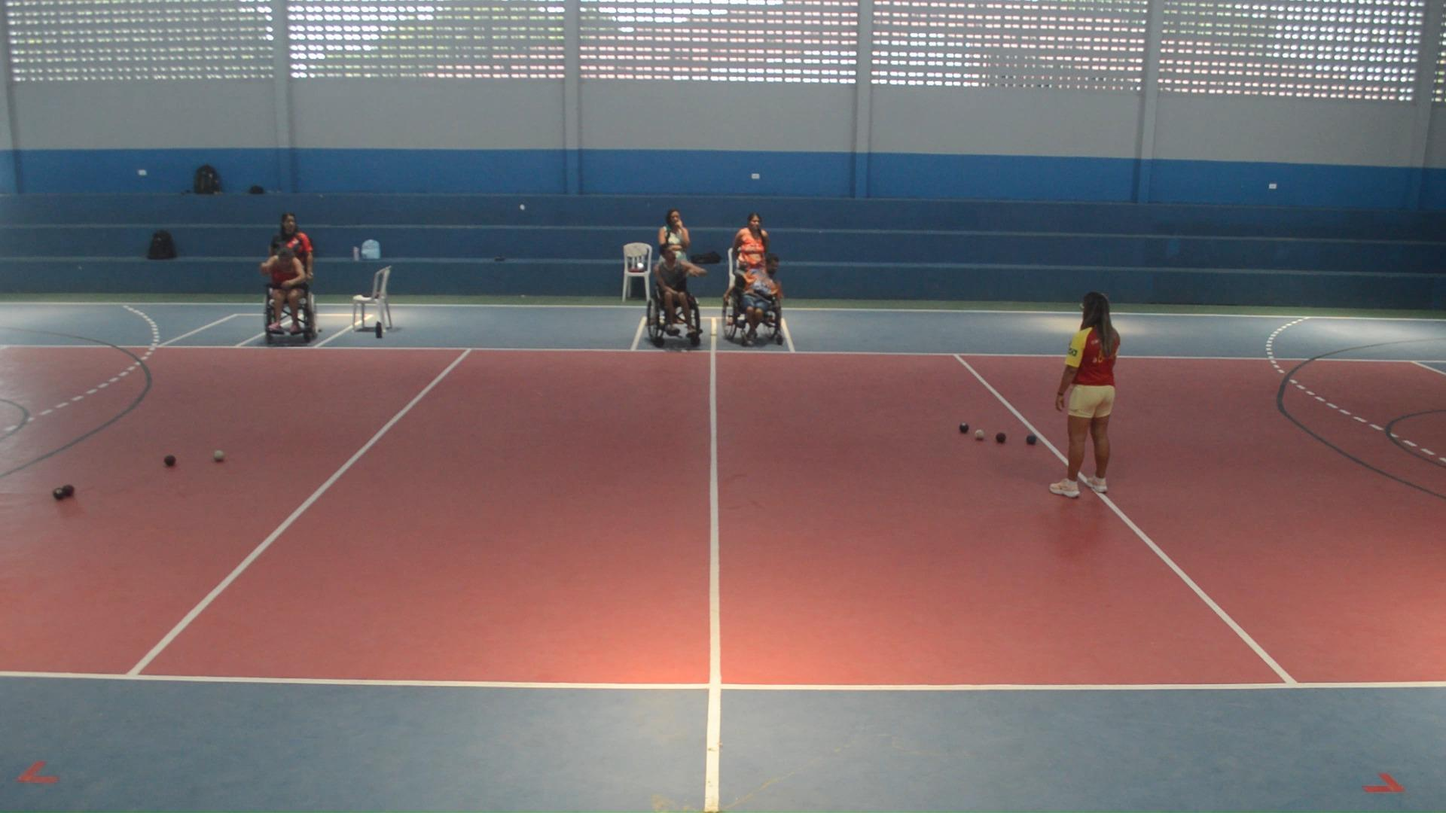blue_ball: (1025, 433, 1037, 446), (959, 422, 969, 434)
red_ball: (995, 431, 1007, 444)
white_ball: (974, 429, 984, 441)
